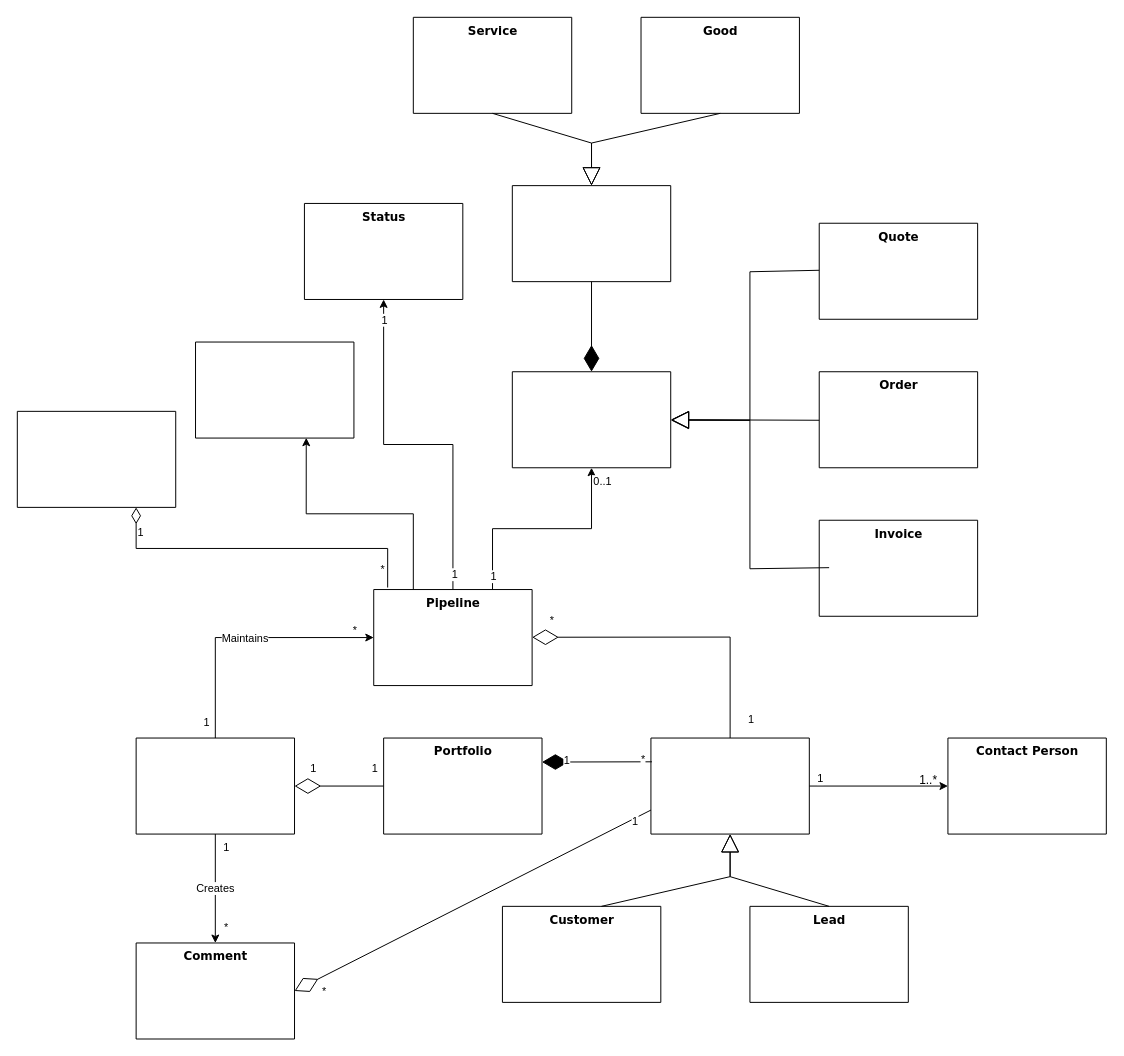
Image size: 1124x1056. Some labels were removed from this diagram. Each missing label, with the centre of its shape:
"Agent" belongs at [215,785].
"Campaign" belongs at [96,458].
"Contact" belongs at [729,785].
"Product" belongs at [591,233].
"Task" belongs at [274,389].
"Transaction" belongs at [591,419].
